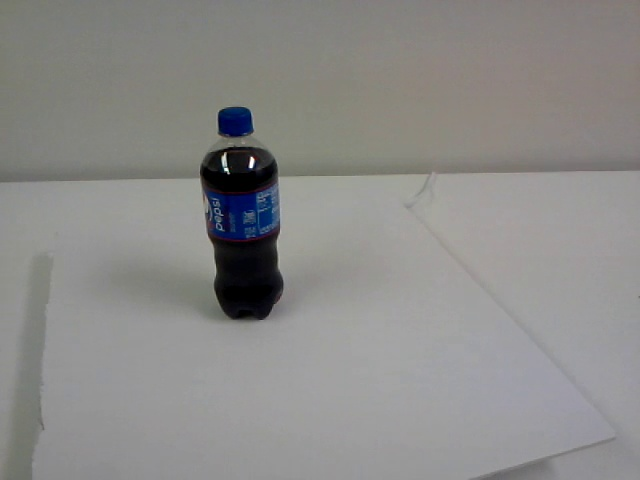botolplastik: (201, 108, 279, 319)
